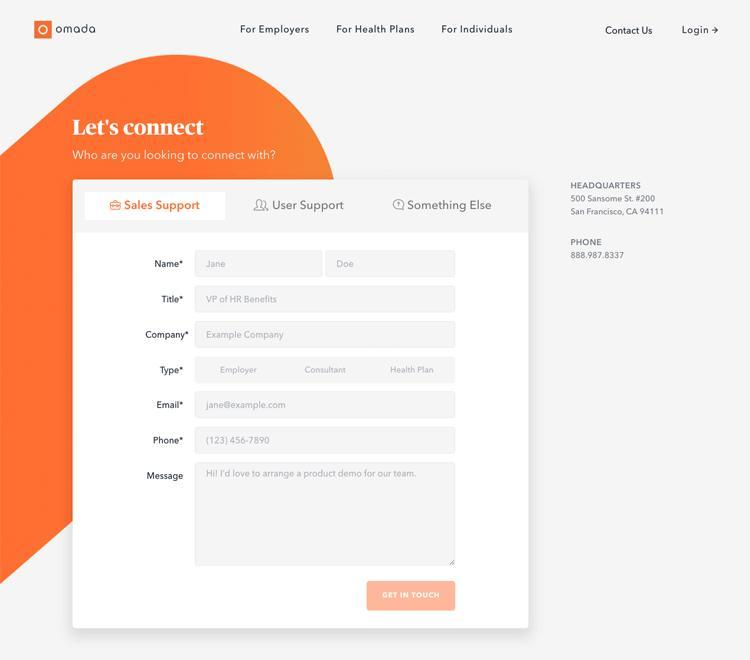button: (366, 579, 458, 614)
input: (196, 389, 459, 421), (194, 426, 459, 457), (195, 318, 457, 349), (193, 284, 459, 314), (193, 248, 325, 279), (326, 249, 459, 277)
label: (63, 111, 212, 143), (334, 23, 419, 37), (441, 23, 514, 35), (238, 24, 311, 36), (146, 328, 190, 344), (147, 470, 186, 484), (604, 26, 653, 36), (152, 435, 187, 447), (154, 259, 186, 272), (159, 293, 187, 306), (156, 400, 186, 411), (158, 365, 185, 377), (680, 26, 710, 36)
